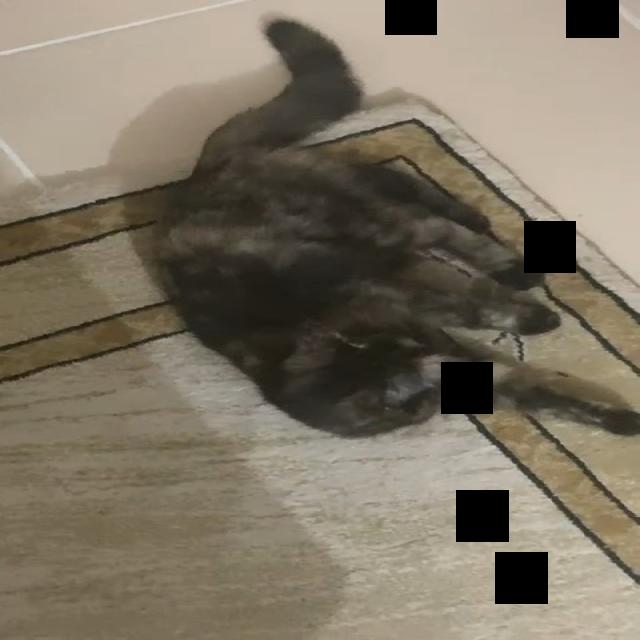authorized: (139, 12, 637, 440)
